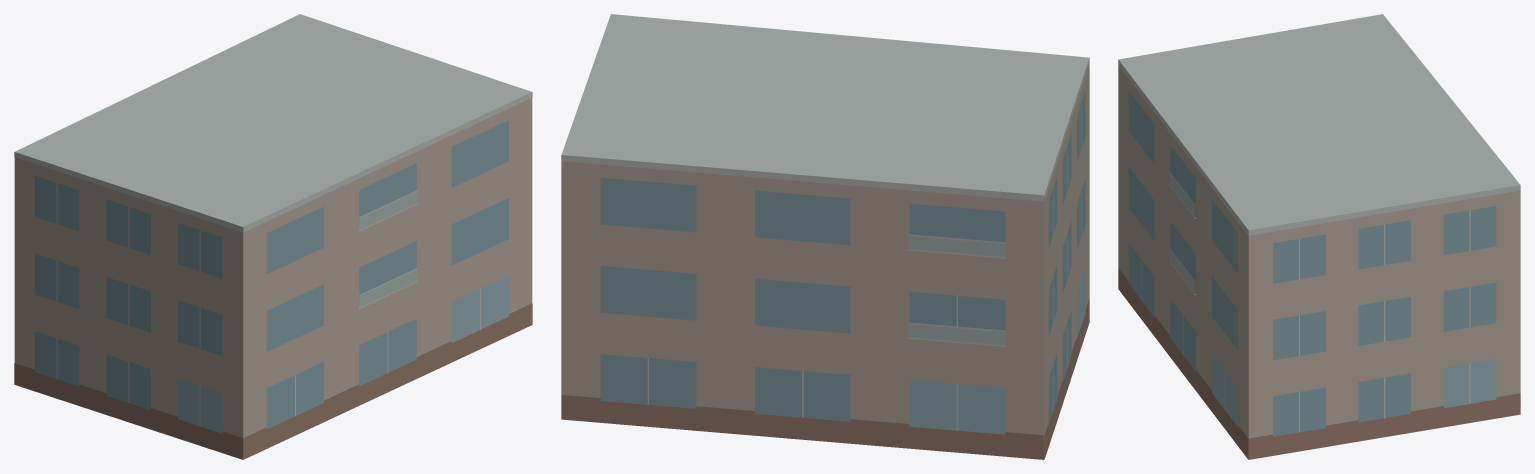
Rendered from survey-upis-32837828.glb.
3 renders of one model, left to right at view 1: azimuth 30°, elevation 25°; view 2: azimuth 150°, elevation 25°; view 3: azimuth 270°, elevation 25°, orthographic. The views are drawn at different scales.
Parts seen in each view (by area): view 1: survey-upis-32837828.tmp; view 2: survey-upis-32837828.tmp; view 3: survey-upis-32837828.tmp.
Boxes of the visible parts, x1,y1,x2,y2 form: survey-upis-32837828.tmp: (14,14,532,459); survey-upis-32837828.tmp: (561,14,1089,459); survey-upis-32837828.tmp: (1118,14,1520,459).
Size of the model in its own units: 20.63 by 10.2 by 16.21.
